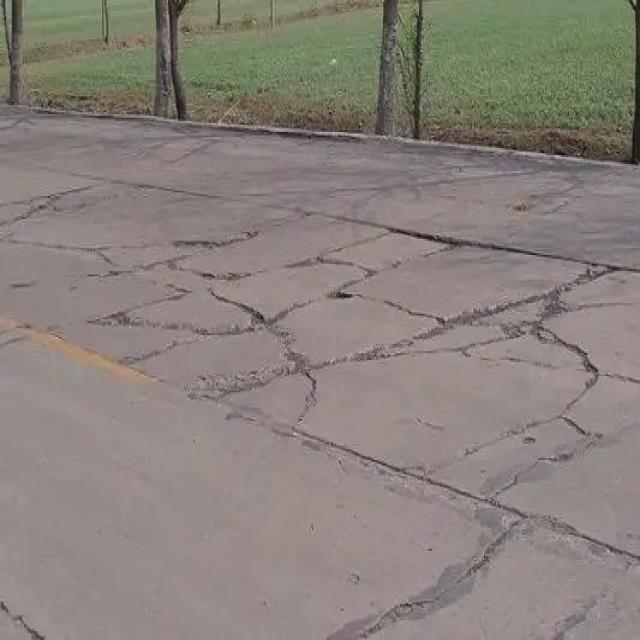Pothole: (23, 170, 630, 498)
